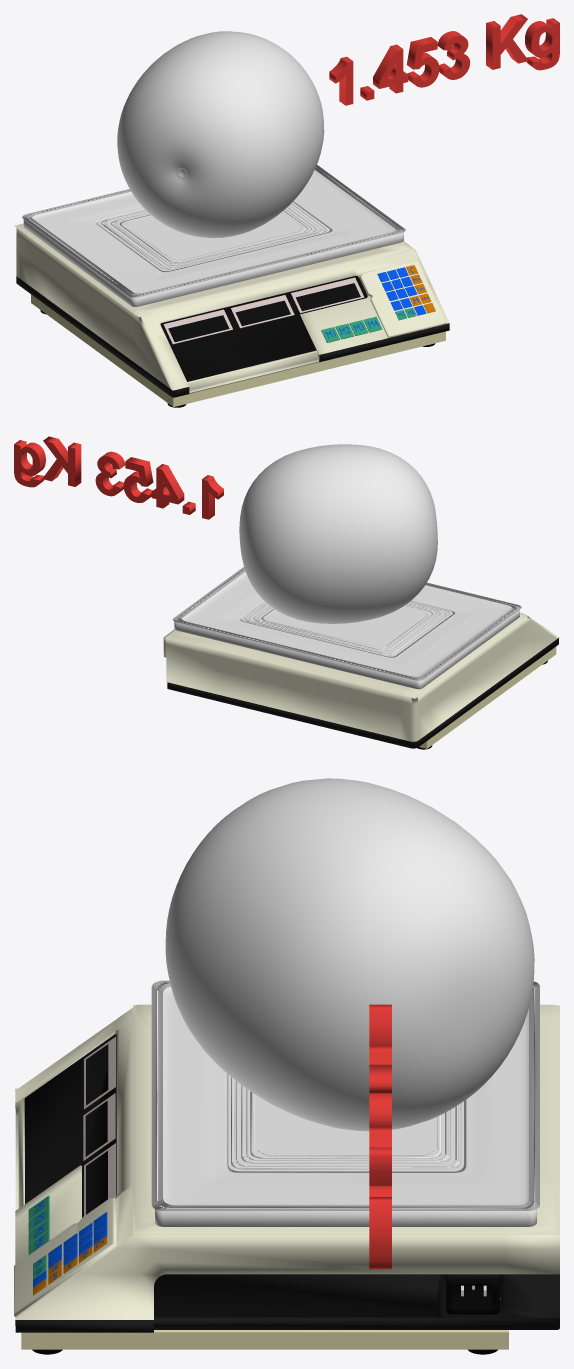
The model's file is Float.fbx.
3 views of the same model, one above another, from view 1: azimuth 30°, elevation 25°; view 2: azimuth 150°, elevation 25°; view 3: azimuth 270°, elevation 25° (orthographic). The views are drawn at different scales.
Parts seen in each view (by area): view 1: Cube.013, Watermelon, Text.001; view 2: Cube.013, Watermelon, Text.001; view 3: Cube.013, Watermelon, Text.001.
Boxes of the visible parts, <box> form: Cube.013: <box>14,165,449,407</box>; Watermelon: <box>117,31,324,238</box>; Text.001: <box>329,14,559,105</box>; Cube.013: <box>163,567,559,749</box>; Watermelon: <box>239,444,437,623</box>; Text.001: <box>14,436,223,519</box>; Cube.013: <box>14,980,559,1354</box>; Watermelon: <box>165,778,534,1131</box>; Text.001: <box>369,1004,391,1269</box>.
Size of what is drawn, in the model's own units: 71.7 by 36.5 by 40.32.
